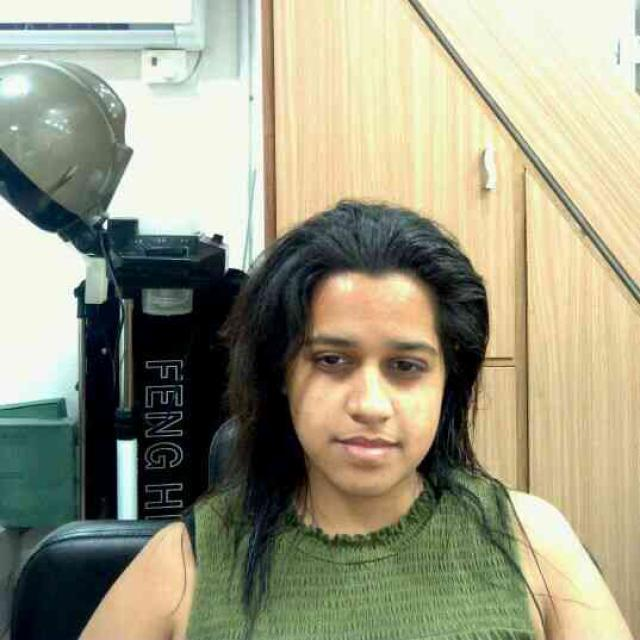puffy_eyes: (382, 365, 423, 389), (330, 366, 360, 383)
